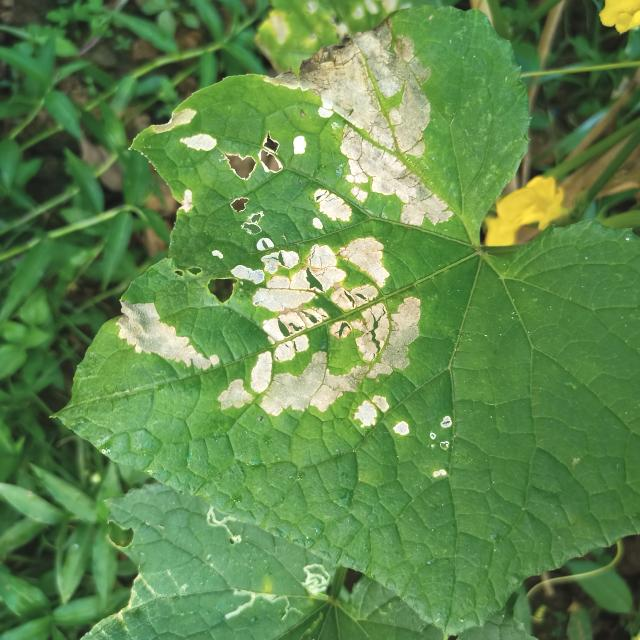disease_cucumber: (98, 232, 428, 446), (146, 20, 460, 234), (424, 407, 465, 487)
